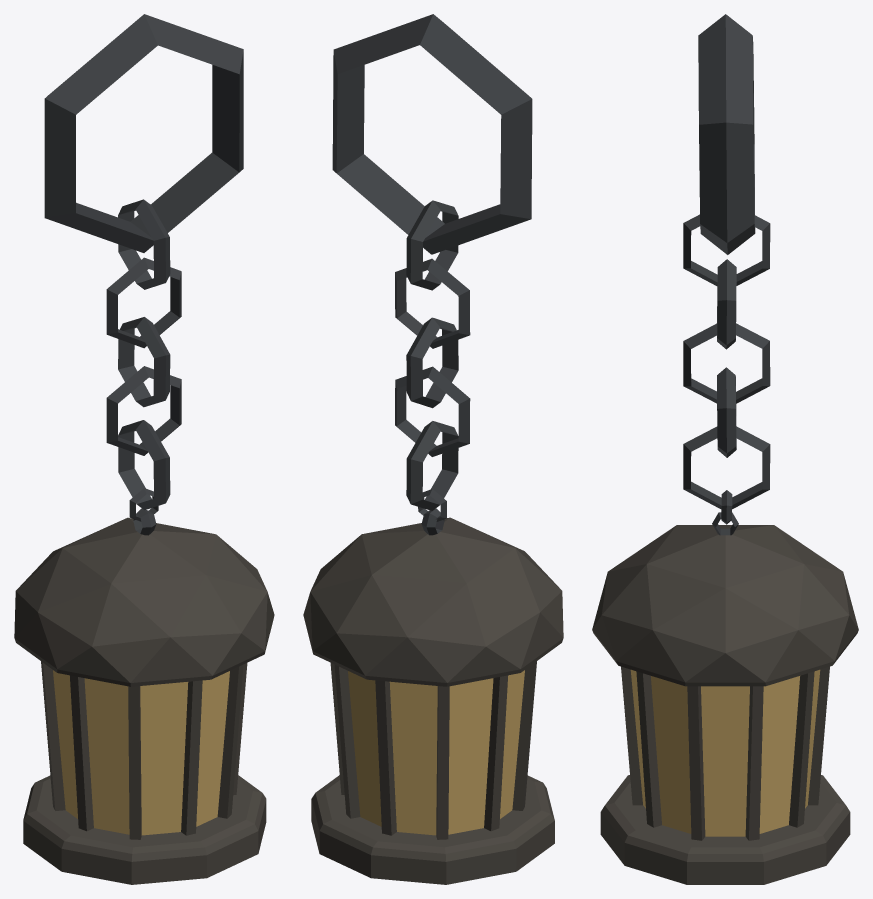
Rendered from Lamp.fbx.
The picture shows the model from 3 angles, left to right: view 1: azimuth 30°, elevation 25°; view 2: azimuth 150°, elevation 25°; view 3: azimuth 270°, elevation 25°; orthographic projection.
Visible parts, largest first — view 1: Chain2; view 2: Chain2; view 3: Chain2.
Part boxes in pixels (x1,y1,x2,y2): Chain2: (14,14,274,884); Chain2: (303,14,563,884); Chain2: (592,14,858,884).
Size of the model in its own units: 136 by 481 by 142.
